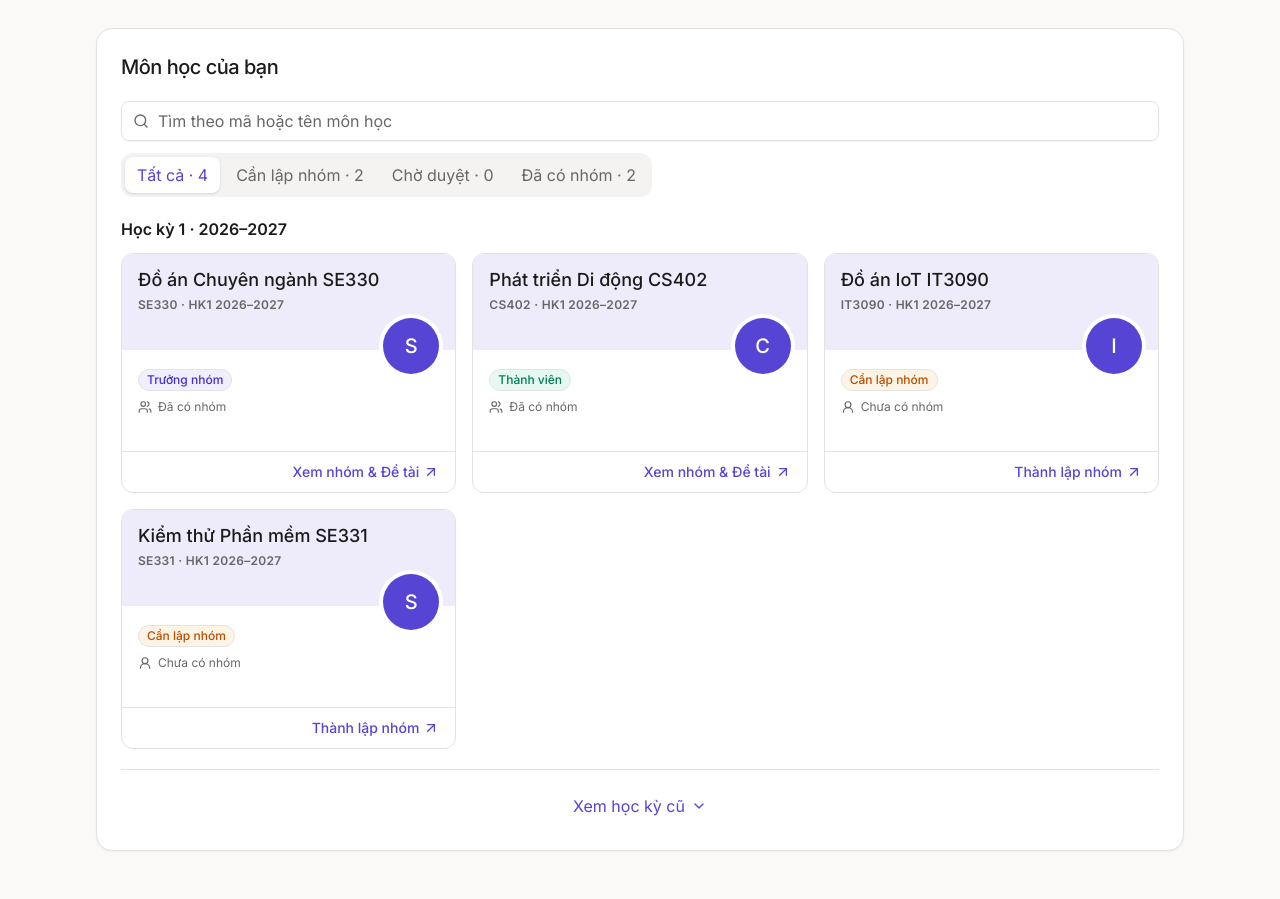
Test: courses repository › shows only the latest term, and reveals older terms newest first on demand
Check: the heading "Học kỳ 1 · 2026–2027" is shown, box [121,219,287,239]
Check: the list item that starts with "Đồ án Chuyên ngành SE330" shows "HK1 2026–2027", box [188,297,284,312]
Click the button "Xem học kỳ cũ": (640, 806) [557,786,723,826]
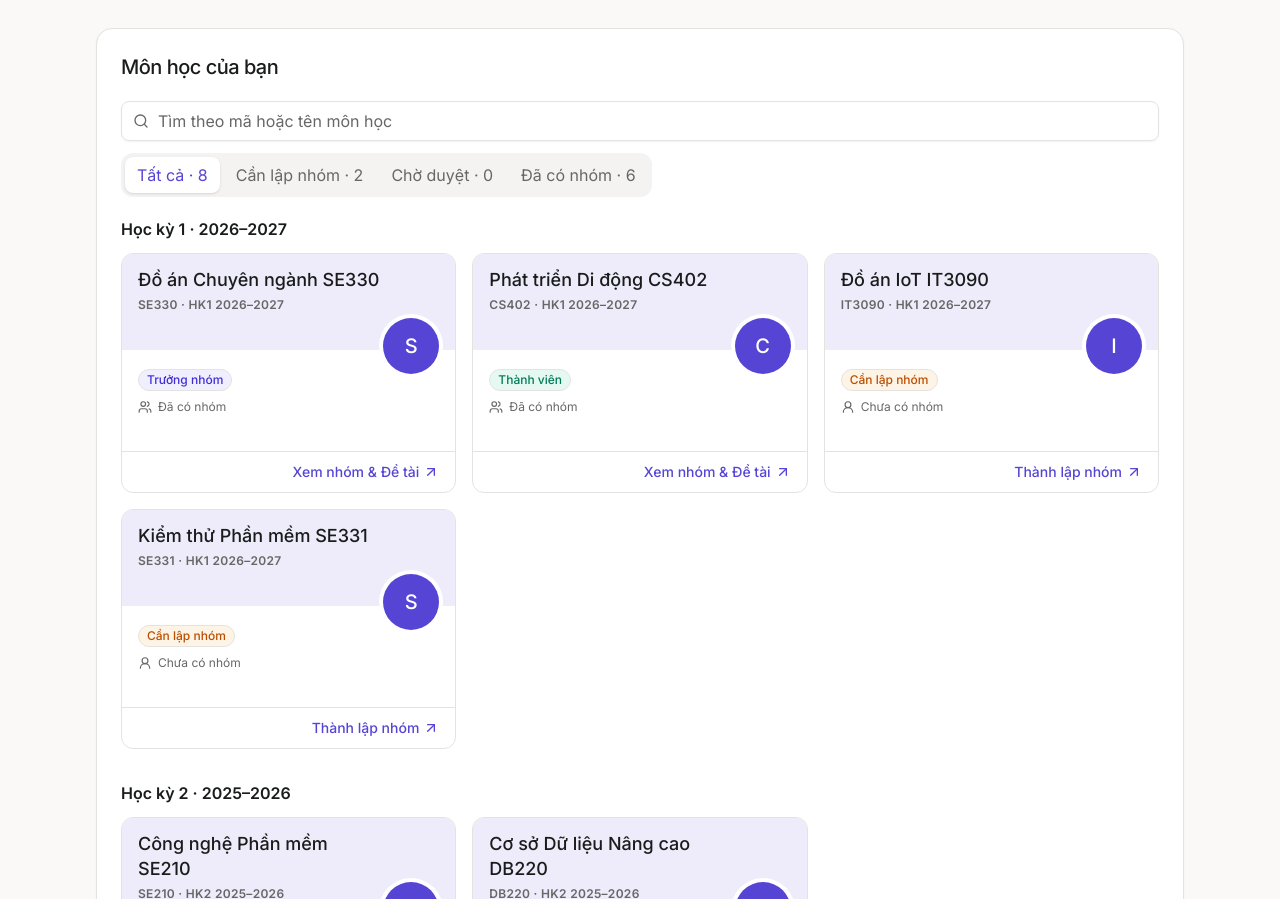
Check: the number of list items is 8
Search reaches past terms only while they are shown.
In the search field named "Tìm môn học": (640, 121) [121,101,1159,141], type "DB220"
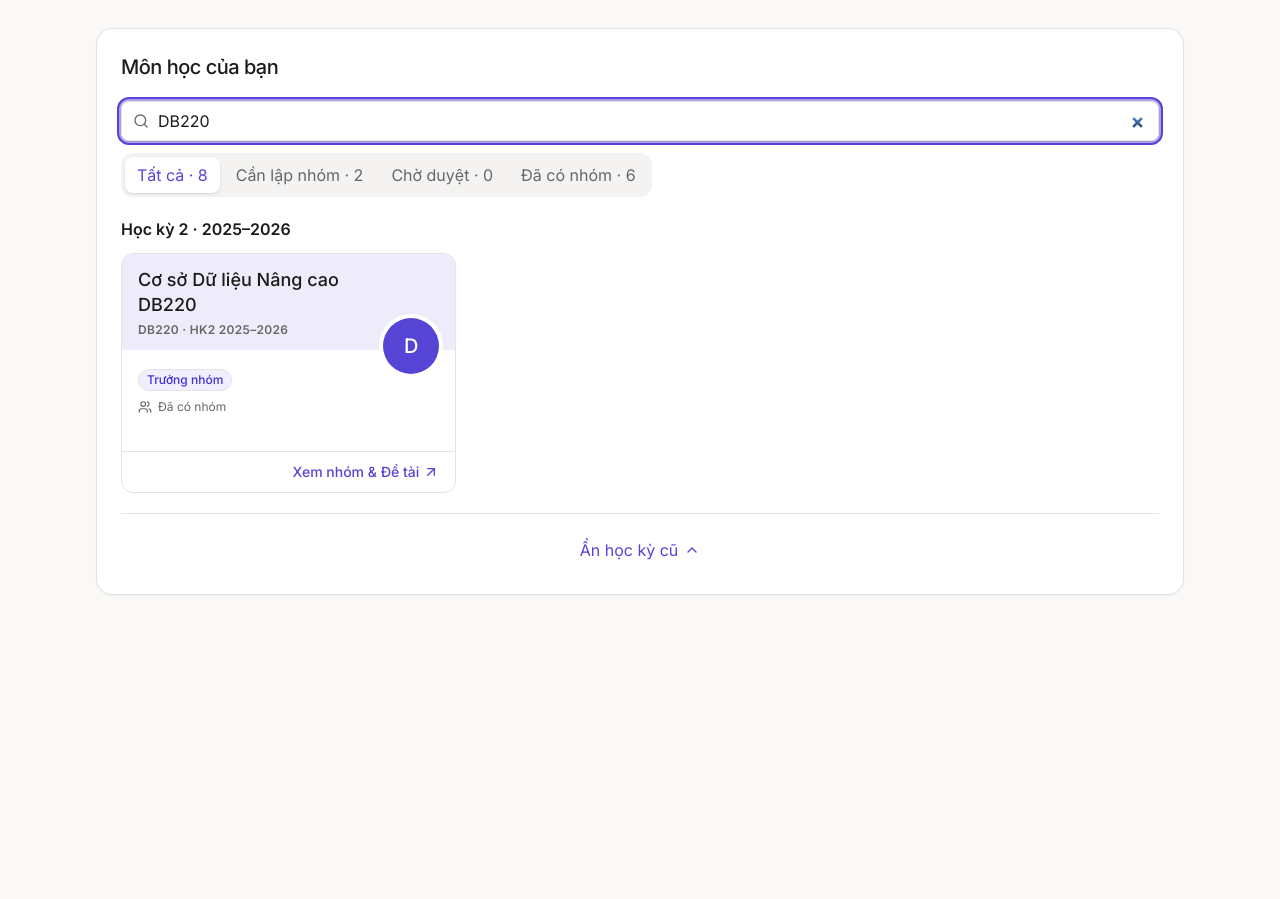
Check: the number of list items is 1, box [121,253,456,493]
Click the button "Ẩn học kỳ cũ": (640, 550) [564,530,716,570]
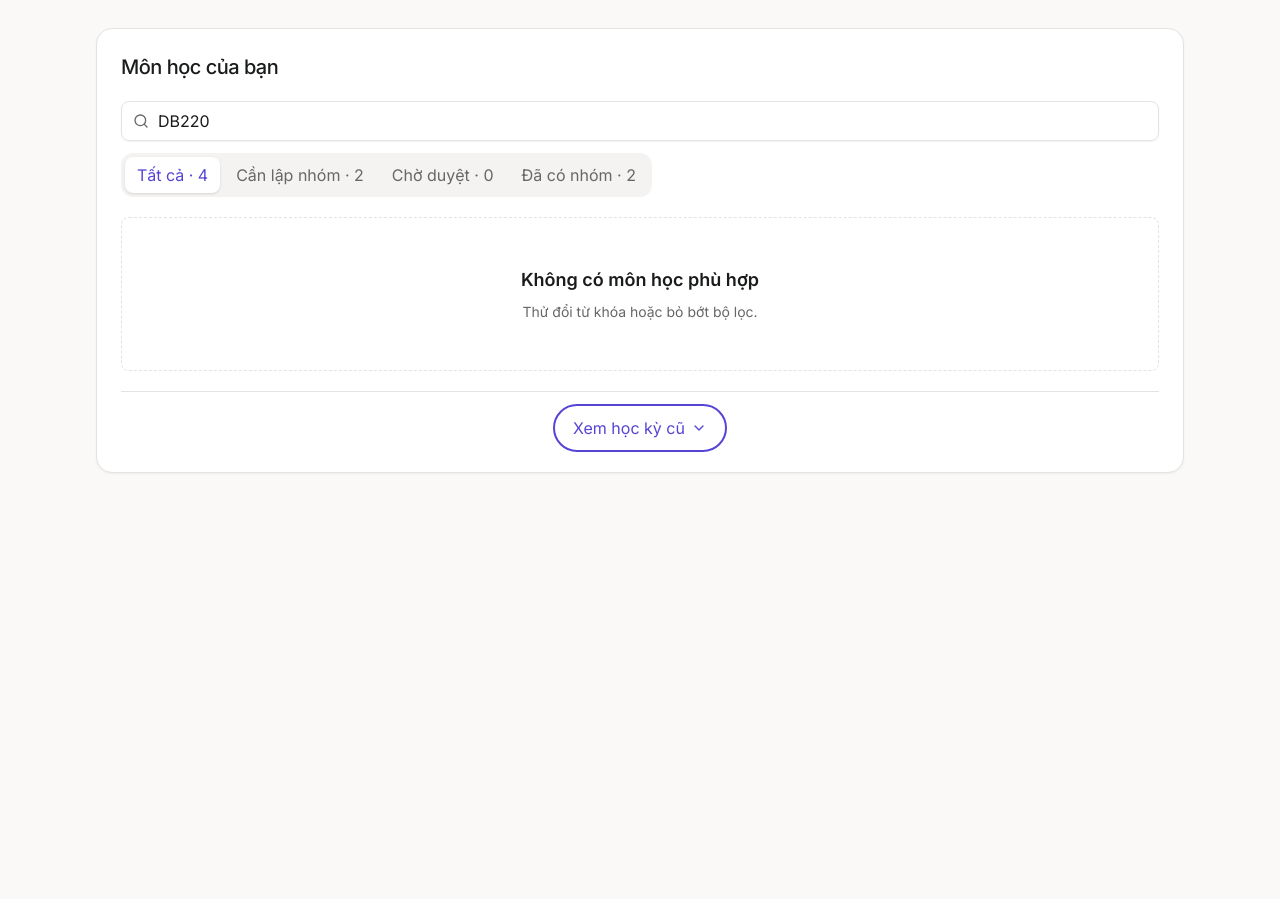
Check: the heading "Không có môn học phù hợp" is shown, box [521,269,759,290]
